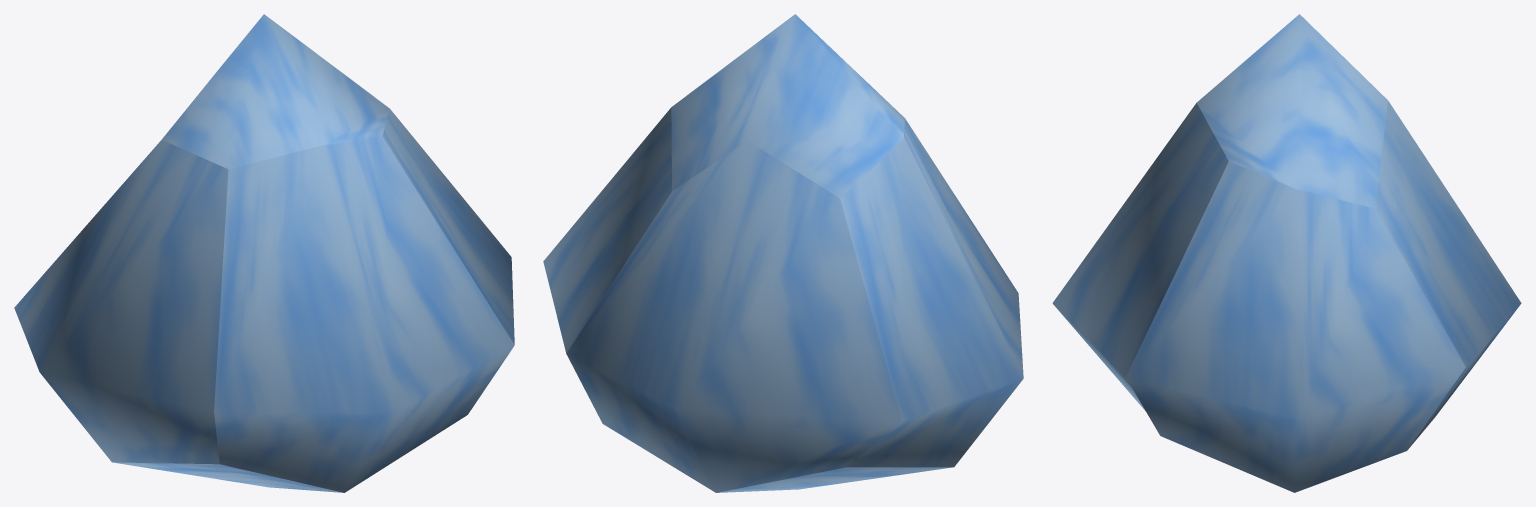
The model's file is cristal_animation.FBX.
The picture shows the model from 3 angles, left to right: view 1: azimuth 30°, elevation 25°; view 2: azimuth 150°, elevation 25°; view 3: azimuth 270°, elevation 25°; orthographic projection. The views are drawn at different scales.
Visible parts, largest first — view 1: Box001; view 2: Box001; view 3: Box001.
Part boxes in pixels (<box>): Box001: <box>14,14,514,492</box>; Box001: <box>543,14,1023,492</box>; Box001: <box>1052,14,1521,492</box>.
Bounding box in the file's own units: 52.51 × 50 × 47.45.
